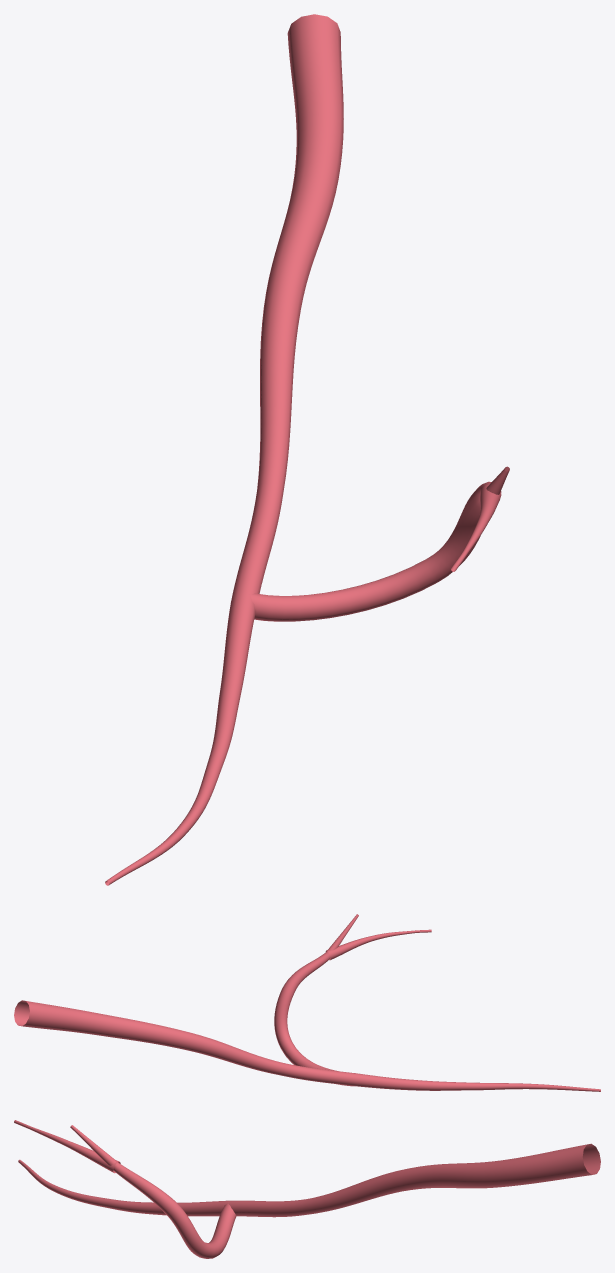
3 renders of one model, top to bottom at view 1: azimuth 30°, elevation 25°; view 2: azimuth 150°, elevation 25°; view 3: azimuth 270°, elevation 25°, orthographic. The views are drawn at different scales.
Parts seen in each view (by area): view 1: ZA_66561e06fa5b891d; view 2: ZA_66561e06fa5b891d; view 3: ZA_66561e06fa5b891d.
Part boxes in pixels (bbox=[...]): ZA_66561e06fa5b891d: bbox=[105, 14, 509, 885]; ZA_66561e06fa5b891d: bbox=[14, 914, 600, 1091]; ZA_66561e06fa5b891d: bbox=[14, 1120, 600, 1258].
Size of the model in its own units: 0.0306 by 0.015 by 0.0367.
